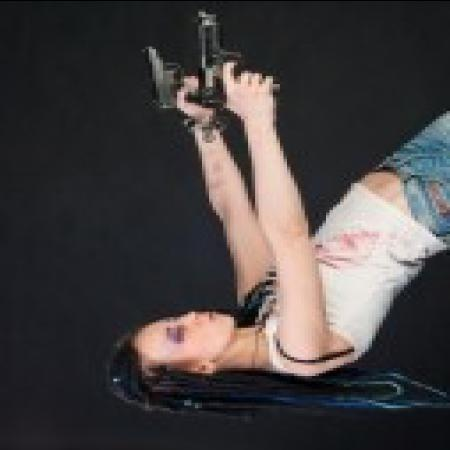Pistol: (187, 14, 284, 108), (131, 37, 213, 124)
